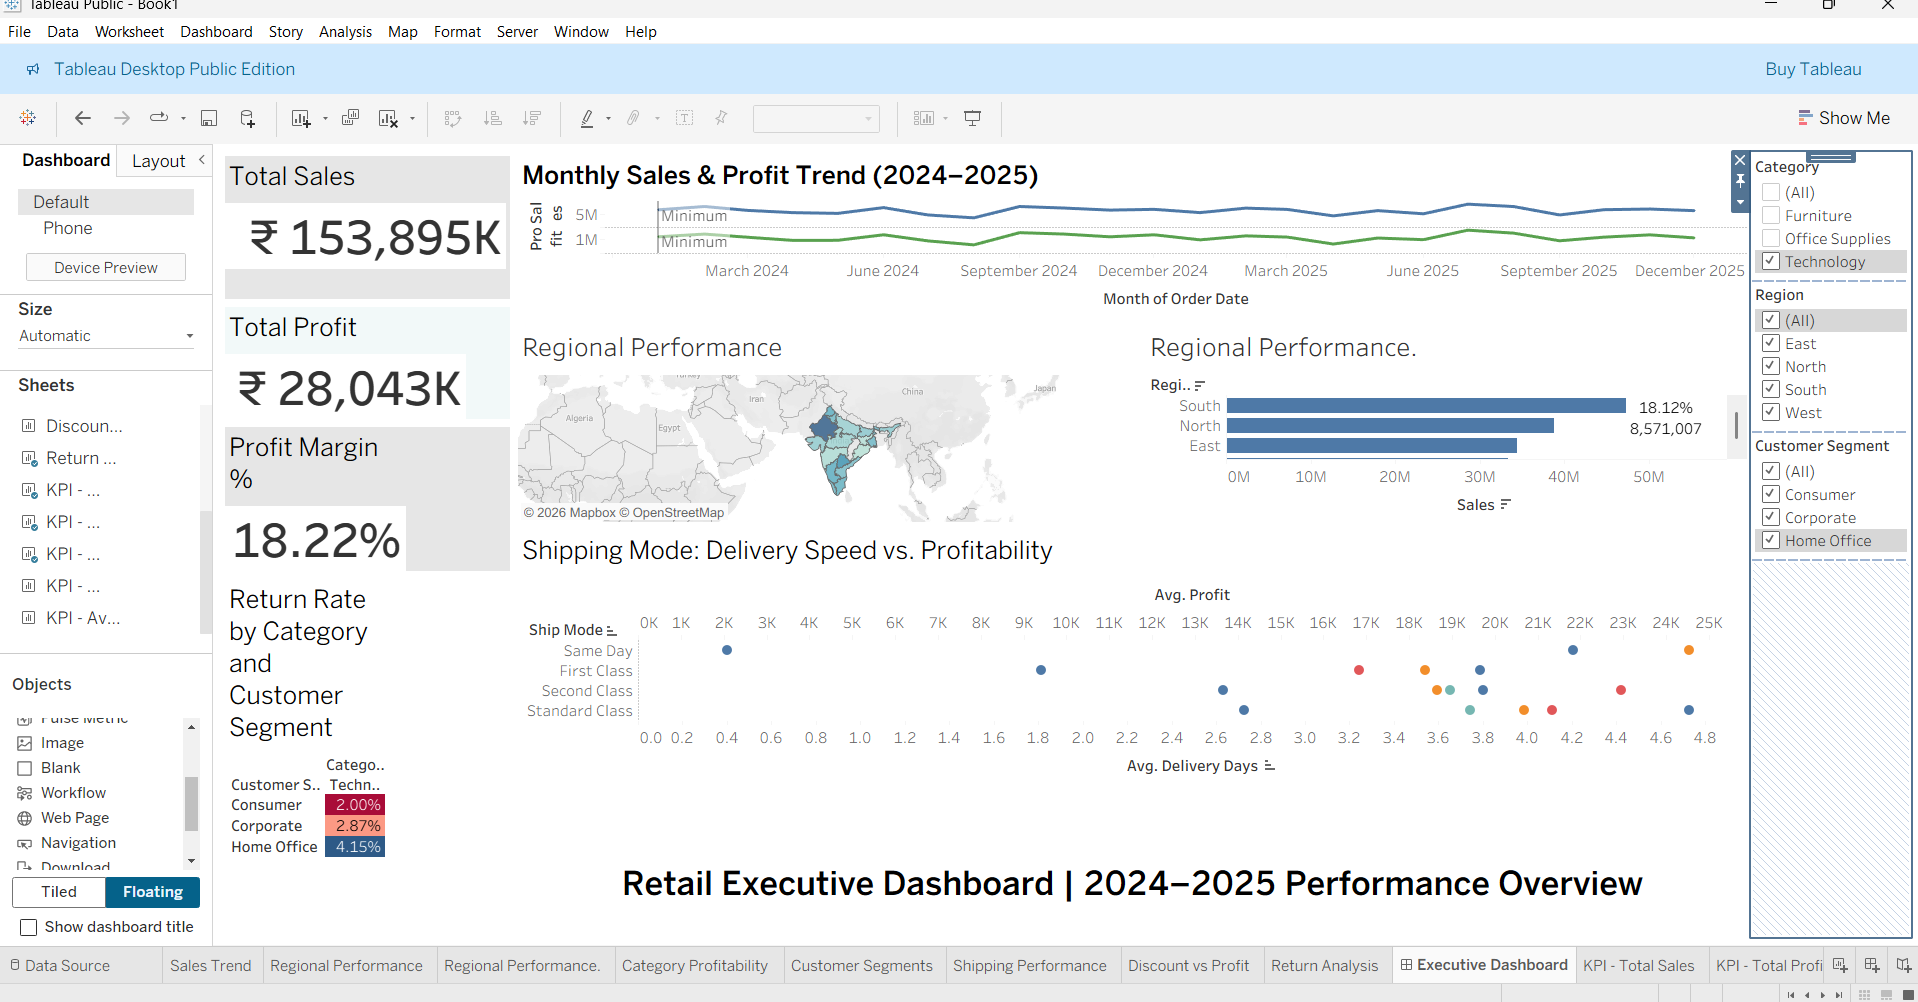

What the dashboard file says about the page in this screenshot:
{"tool":"tableau","page":{"name":"Executive Dashboard","canvas":[1000,1000],"units":"permille","ordinal":0},"visuals":[{"type":"worksheet","title":"KPI - Total Sales","mark":"Text","box":[4.7,10,175.5,188.5]},{"type":"worksheet","title":"Sales Trend","mark":"Line","rows":["sales","profit"],"cols":["order_date"],"box":[180.2,10,741.9,211]},{"type":"filter","title":"Return Analysis","param":"[federated.13u5hvn12ujr3a1e22bz60c8mme9].[none:category:nk]","box":[922.1,10,73.2,159.8]},{"type":"filter","title":"Regional Performance.","param":"[federated.13u5hvn12ujr3a1e22bz60c8mme9].[none:region:nk]","box":[922.1,169.8,73.2,188.5]},{"type":"worksheet","title":"KPI - Total Profit","mark":"Text","box":[4.7,198.5,175.5,149.8]},{"type":"worksheet","title":"Regional Performance","mark":"Multipolygon","box":[180.2,220.9,376.8,255.9]},{"type":"worksheet","title":"Regional Performance.","mark":"Automatic","rows":["region"],"cols":["sales"],"box":[557,220.9,365.1,255.9]},{"type":"worksheet","title":"KPI - Profit Margin","mark":"Text","box":[4.7,348.3,175.5,189.8]},{"type":"filter","title":"Return Analysis","param":"[federated.13u5hvn12ujr3a1e22bz60c8mme9].[none:customer_segment:nk]","box":[922.1,358.3,73.2,159.8]},{"type":"worksheet","title":"Shipping Performance","mark":"Automatic","rows":["ship_mode"],"cols":["delivery_days","profit"],"box":[180.2,476.9,741.9,380.8]},{"type":"worksheet","title":"Return Analysis","mark":"Square","rows":["customer_segment"],"cols":["category"],"box":[4.7,538.1,175.5,412]},{"type":"text","box":[180.2,857.6,741.9,132.4]}]}

Visuals, with their boxes on the dashboard's canvas, which has no fixed pixel size, in thousandths of its width and height (x1, y1, x2, y2). These are canvas units, not pixel positions in the 1918x1002 screenshot, which may show the page scaled, cropped or inside an application window:
"KPI - Total Sales" worksheet (Text marks): left=5, top=10, right=180, bottom=198
"Sales Trend" worksheet (Line marks): left=180, top=10, right=922, bottom=221
"Return Analysis" filter: left=922, top=10, right=995, bottom=170
"Regional Performance." filter: left=922, top=170, right=995, bottom=358
"KPI - Total Profit" worksheet (Text marks): left=5, top=198, right=180, bottom=348
"Regional Performance" worksheet (Multipolygon marks): left=180, top=221, right=557, bottom=477
"Regional Performance." worksheet: left=557, top=221, right=922, bottom=477
"KPI - Profit Margin" worksheet (Text marks): left=5, top=348, right=180, bottom=538
"Return Analysis" filter: left=922, top=358, right=995, bottom=518
"Shipping Performance" worksheet: left=180, top=477, right=922, bottom=858
"Return Analysis" worksheet (Square marks): left=5, top=538, right=180, bottom=950
text: left=180, top=858, right=922, bottom=990
